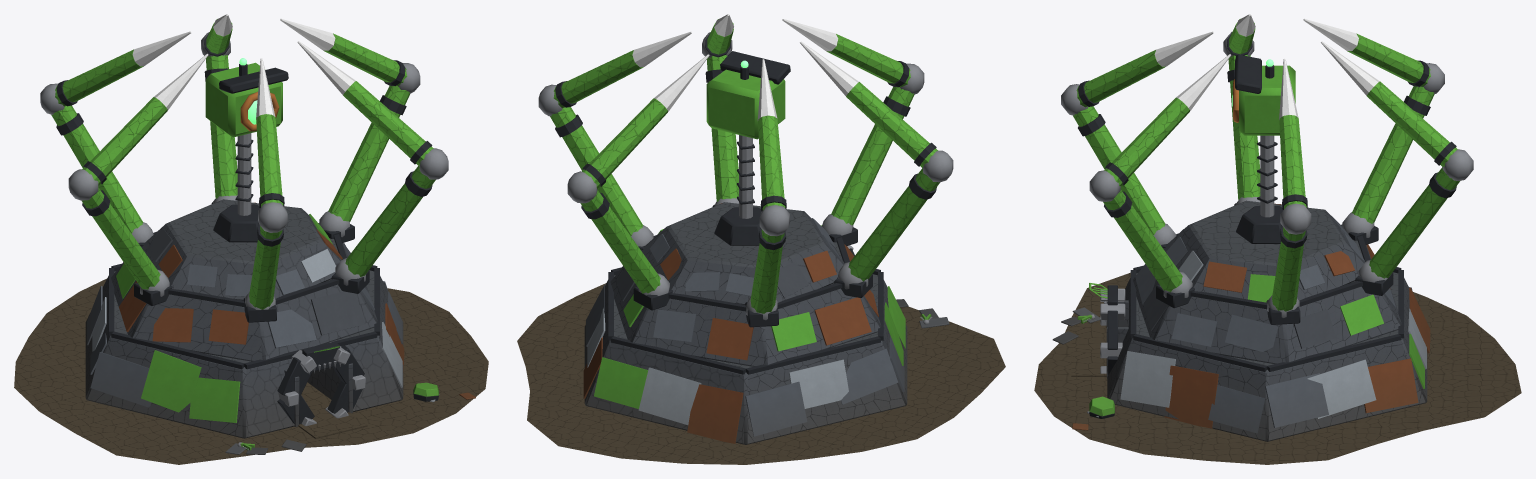
Rendered from scuttler_nest.glb.
3 views of the same model, side by side, from view 1: azimuth 30°, elevation 25°; view 2: azimuth 150°, elevation 25°; view 3: azimuth 270°, elevation 25° (orthographic).
Visible parts, largest first — view 1: scuttler_nest.001; view 2: scuttler_nest.001; view 3: scuttler_nest.001.
Boxes of the visible parts, x1,y1,x2,y2 form: scuttler_nest.001: (14, 14, 488, 464); scuttler_nest.001: (517, 14, 1005, 464); scuttler_nest.001: (1034, 14, 1521, 464).
Size of what is drawn, in the model's own units: 19 by 14.75 by 19.42.
17 materials, 15 textured.
